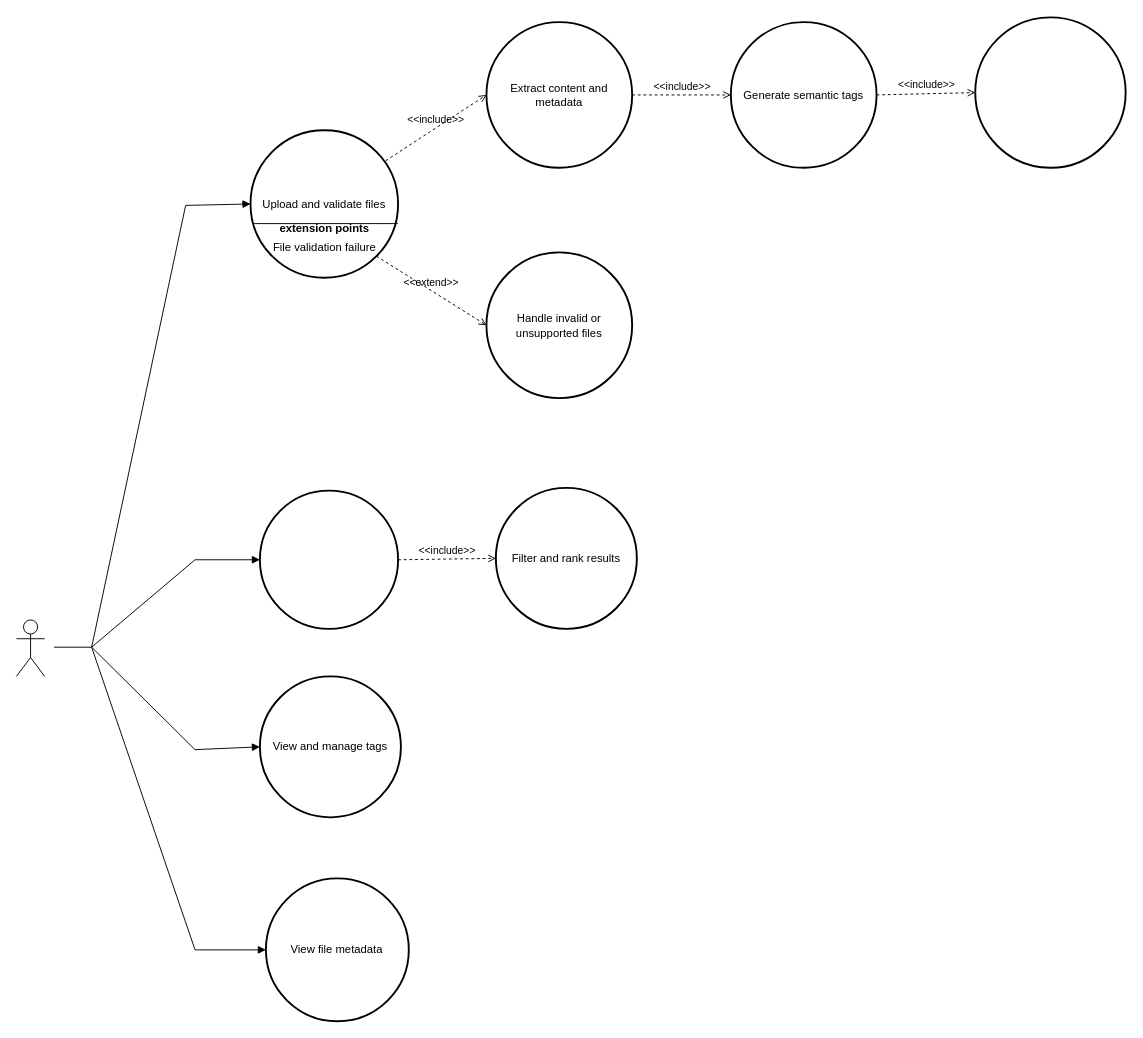
This 1143x1038 diagram has some shape labels left out. Here are the shapes that lost their labels. From the top down, the centre of each, then its label:
point 1050,92: Persist metadata and tag associations
point 328,559: Full-text search
point 30,647: User
